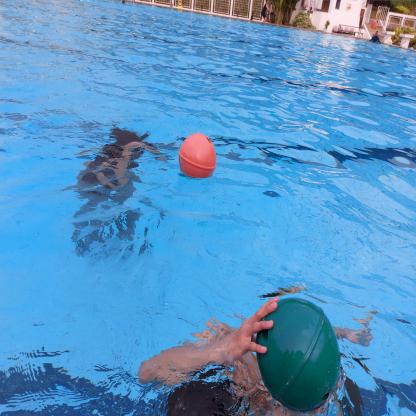green_buoy: (256, 297, 340, 411)
red_buoy: (177, 130, 217, 178)
